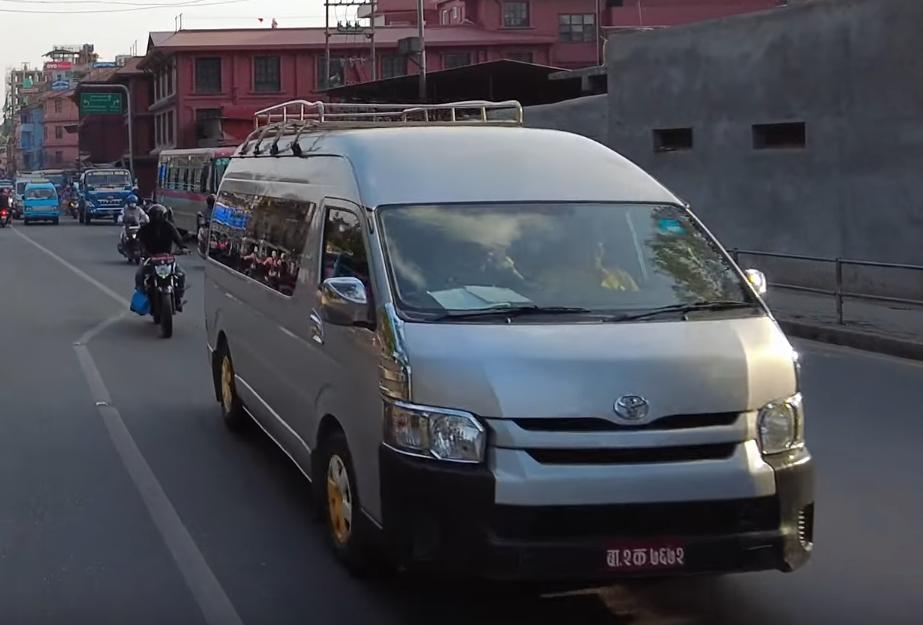bike: (134, 250, 191, 344)
bus: (154, 143, 238, 248)
micro_bus: (184, 95, 828, 605)
mini_truck: (74, 162, 138, 225)
